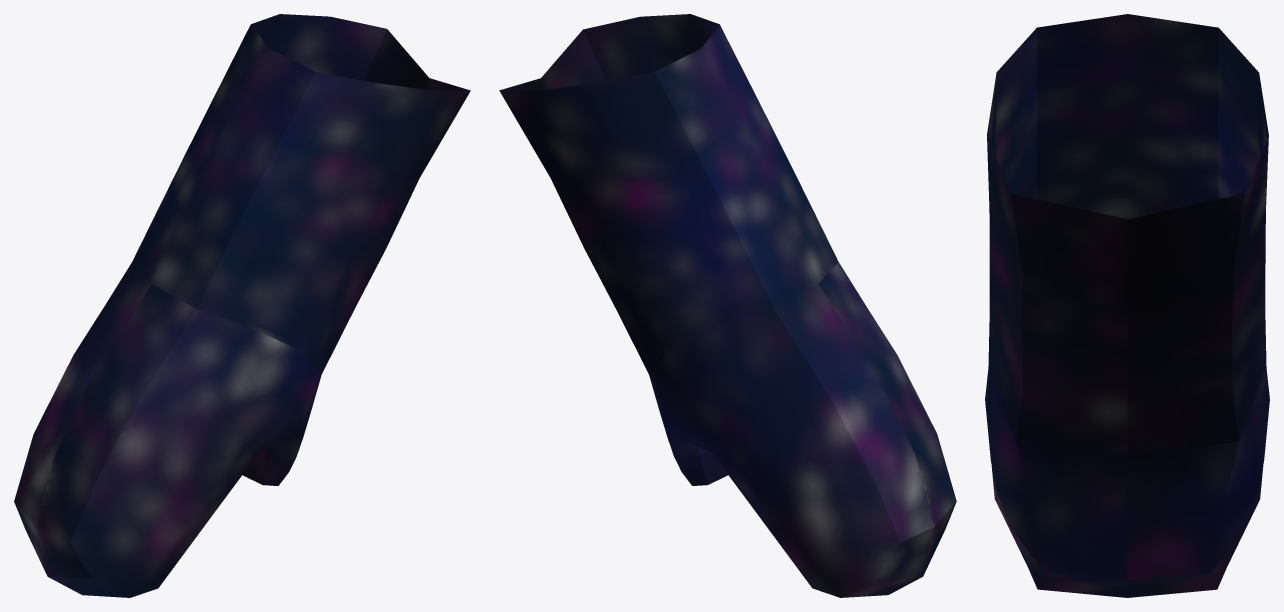
The model's file is ManoAstronauta.fbx.
3 views of the same model, side by side, from view 1: azimuth 30°, elevation 25°; view 2: azimuth 150°, elevation 25°; view 3: azimuth 270°, elevation 25° (orthographic). The views are drawn at different scales.
Visible parts, largest first — view 1: Personaje; view 2: Personaje; view 3: Personaje.
Part boxes in pixels (x1,y1,x2,y2): Personaje: [14, 14, 470, 597]; Personaje: [499, 14, 956, 597]; Personaje: [985, 14, 1269, 597].
Bounding box in the file's own units: 0.4243 × 0.5162 × 0.1903.
